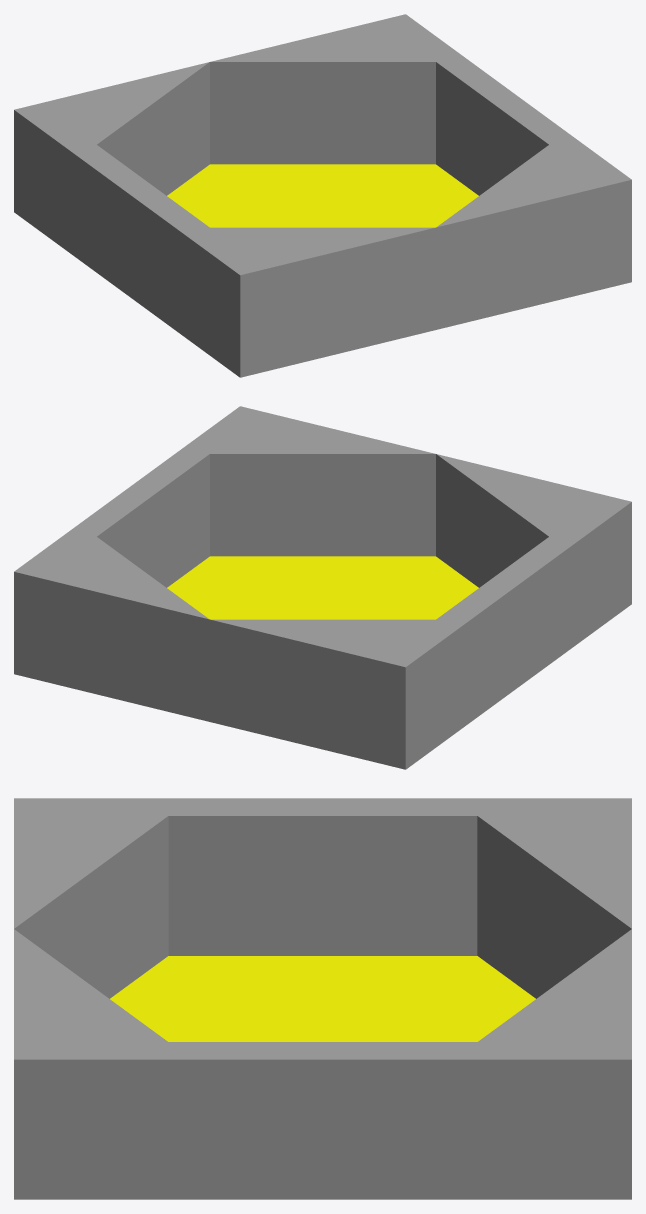
File: hexagon_mold.gltf
3 views of the same model, one above another, from view 1: azimuth 30°, elevation 25°; view 2: azimuth 150°, elevation 25°; view 3: azimuth 270°, elevation 25° (orthographic). The views are drawn at different scales.
Parts seen in each view (by area): view 1: Moule, Base; view 2: Moule, Base; view 3: Moule, Base.
Part boxes in pixels (x1=…): Moule: x1=14, y1=14, x2=631, y2=377; Base: x1=167, y1=164, x2=478, y2=227; Moule: x1=14, y1=406, x2=631, y2=769; Base: x1=167, y1=556, x2=478, y2=619; Moule: x1=14, y1=798, x2=631, y2=1199; Base: x1=110, y1=956, x2=535, y2=1041.
Bounding box in the file's own units: 0.2 × 0.05 × 0.2.
